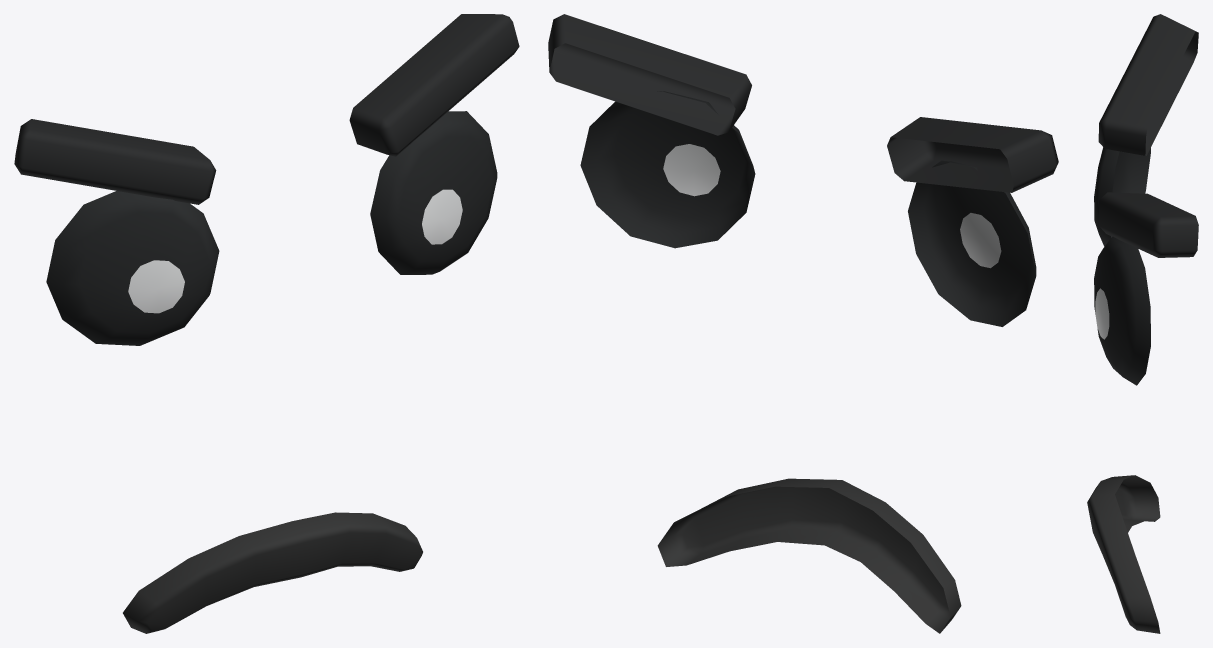
Rendered from male_emotions_angry_003.glb.
The picture shows the model from 3 angles, left to right: view 1: azimuth 30°, elevation 25°; view 2: azimuth 150°, elevation 25°; view 3: azimuth 270°, elevation 25°; orthographic projection. The views are drawn at different scales.
Visible parts, largest first — view 1: Male_emotion_angry_003; view 2: Male_emotion_angry_003; view 3: Male_emotion_angry_003.
Boxes of the visible parts, box(x1,y1,x2,y2) form: Male_emotion_angry_003: box(14, 14, 519, 633); Male_emotion_angry_003: box(548, 14, 1058, 633); Male_emotion_angry_003: box(1087, 14, 1198, 633).
Bounding box in the file's own units: 0.1197 × 0.1192 × 0.0262.
1 material, 1 textured.
